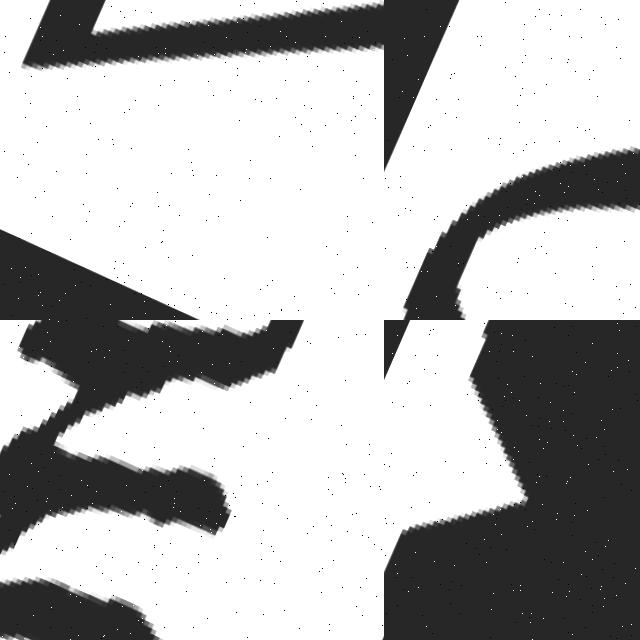0: (384, 1, 640, 320)
7: (5, 0, 384, 270)
M: (0, 320, 325, 640)
X: (384, 320, 640, 640)
